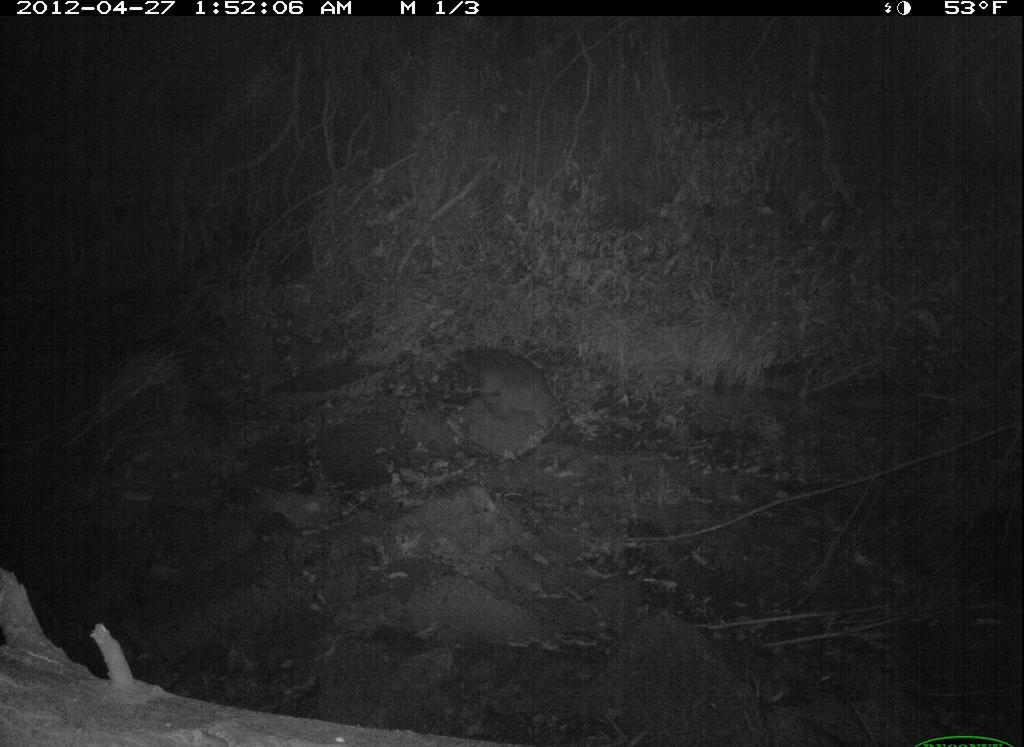raccoon: (454, 337, 595, 459)
